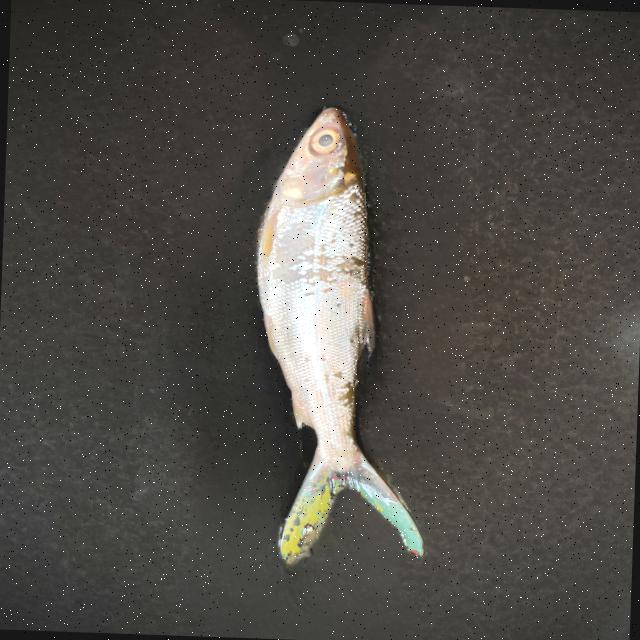345 g: (246, 104, 440, 564)
